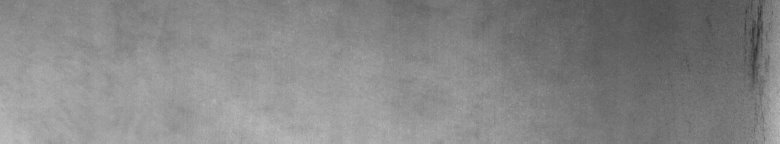ka: (705, 4, 776, 120)
